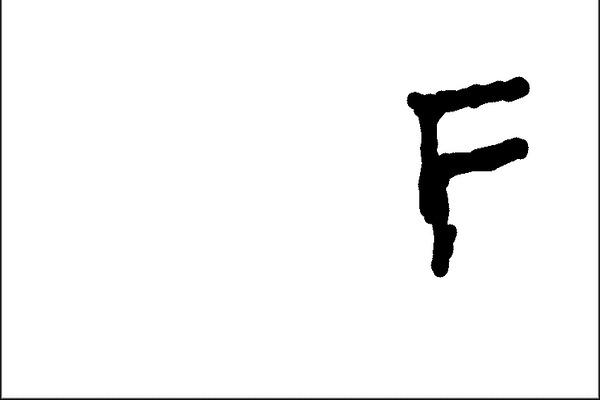F: (402, 72, 534, 280)
